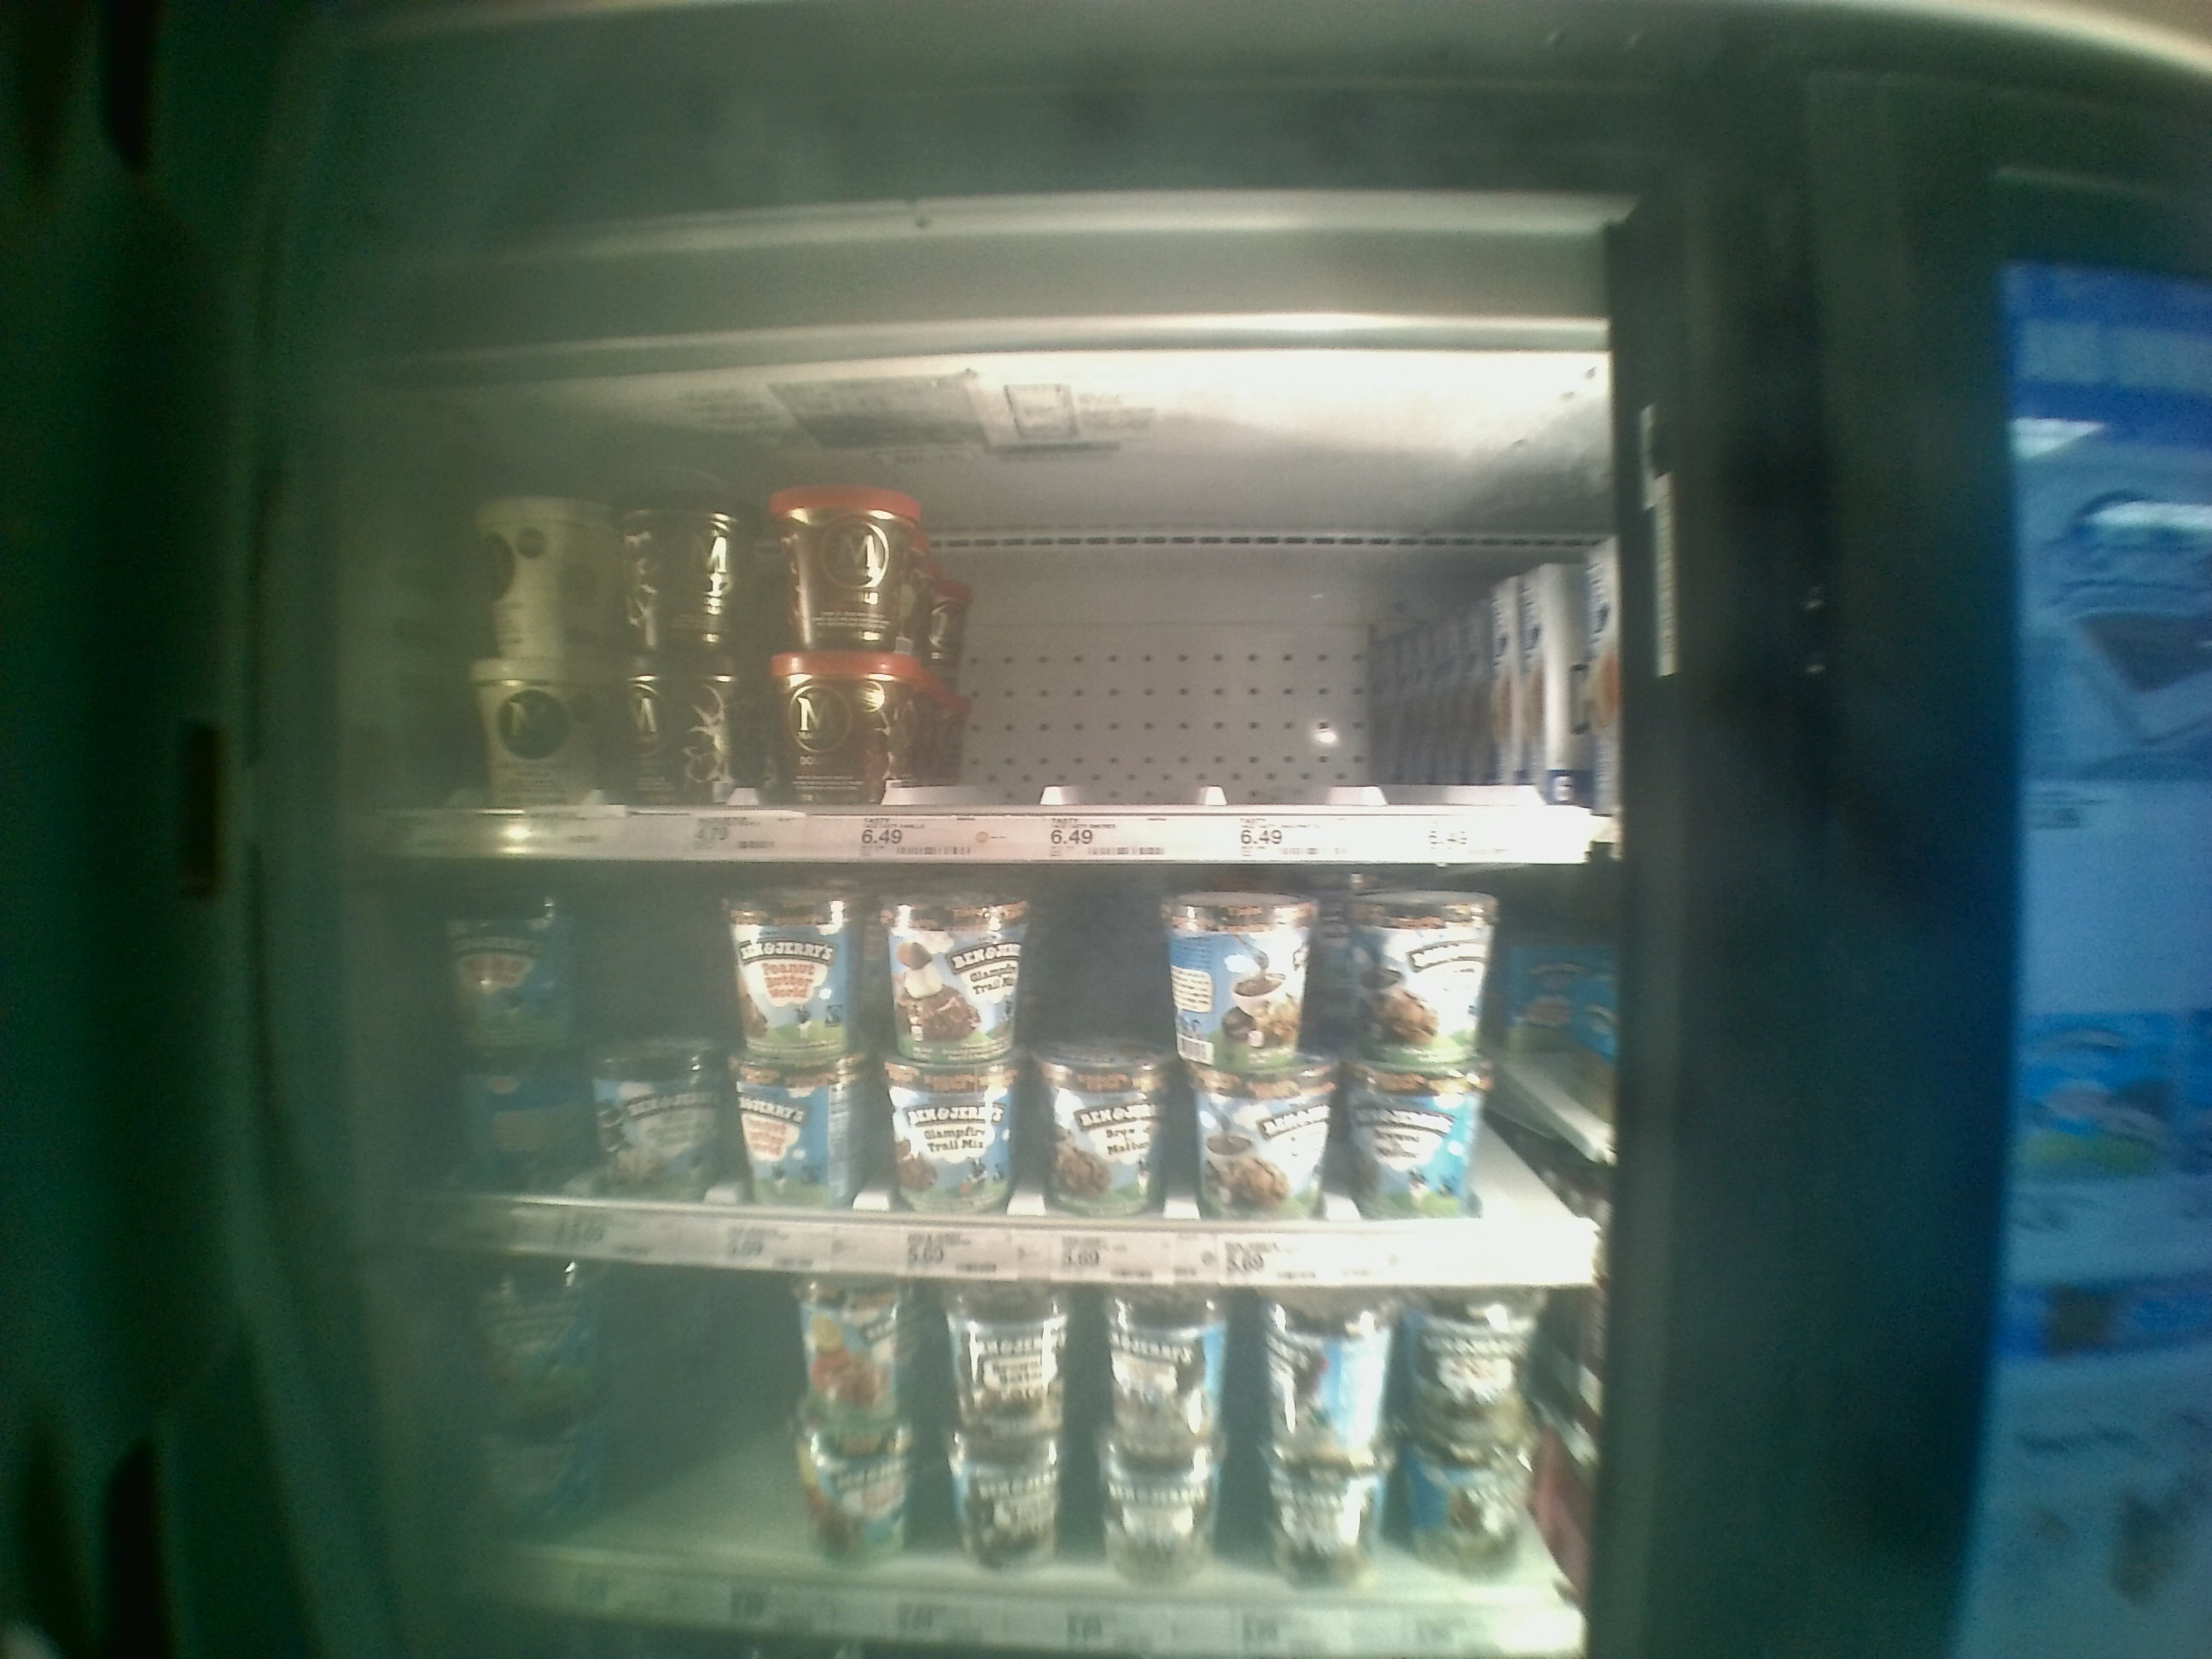shelf: (371, 854, 1595, 1300), (369, 410, 1578, 859)
